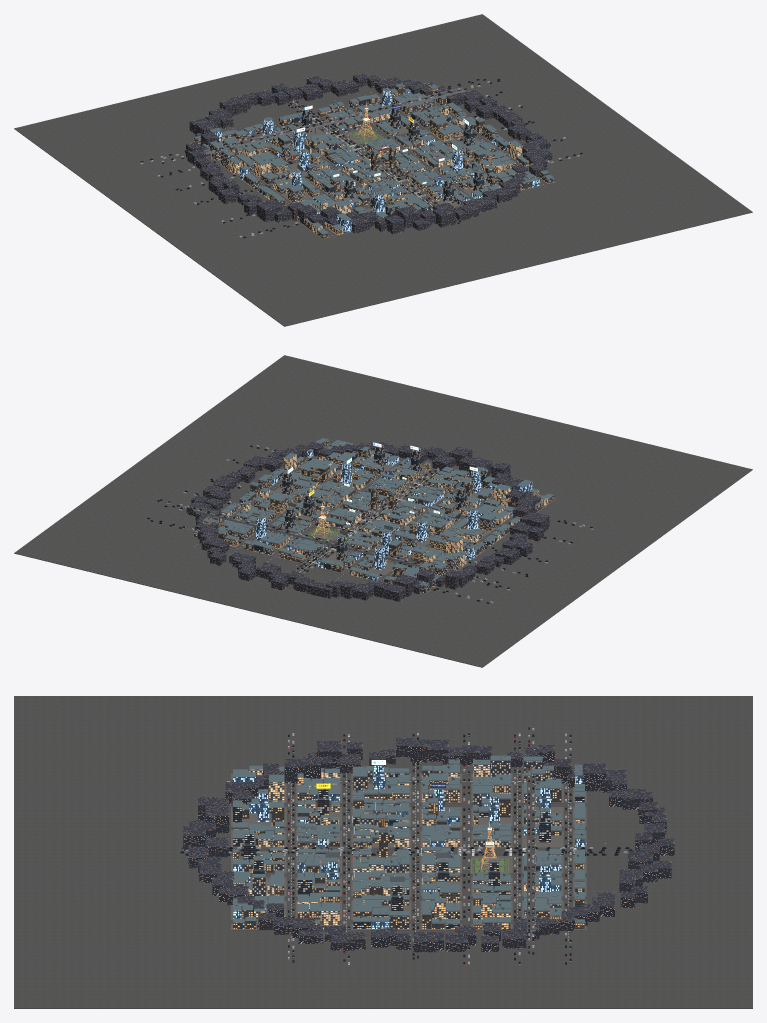
The model's file is akasaka.glb.
3 views of the same model, one above another, from view 1: azimuth 30°, elevation 25°; view 2: azimuth 150°, elevation 25°; view 3: azimuth 270°, elevation 25° (orthographic). The views are drawn at different scales.
Parts seen in each view (by area): view 1: street, skyline, roof, concrete, paving, facade0, facade2, facade3, facade4, facade1, facade5, metal (+1 smaller); view 2: street, skyline, roof, concrete, paving, facade4, facade0, facade3, facade2, facade1, facade5, metal; view 3: street, skyline, roof, paving, facade4, facade3, concrete, facade1, facade5, facade0, facade2, metal (+3 smaller).
Part boxes in pixels (x1,y1,x2,y2): street: [14, 14, 752, 326]; skyline: [186, 73, 552, 234]; roof: [194, 83, 553, 234]; concrete: [194, 85, 508, 203]; paving: [208, 99, 556, 239]; facade0: [221, 86, 549, 238]; facade2: [237, 86, 529, 234]; facade3: [209, 89, 539, 233]; facade4: [228, 105, 522, 233]; facade1: [194, 98, 554, 214]; facade5: [233, 99, 508, 216]; metal: [197, 84, 496, 202]; street: [14, 355, 752, 667]; skyline: [186, 441, 549, 601]; roof: [194, 438, 553, 585]; concrete: [193, 445, 510, 586]; paving: [192, 443, 555, 593]; facade4: [221, 452, 548, 576]; facade0: [213, 442, 554, 583]; facade3: [256, 442, 532, 580]; facade2: [194, 451, 539, 568]; facade1: [225, 439, 505, 592]; facade5: [215, 446, 497, 584]; metal: [197, 442, 501, 584]; street: [14, 696, 752, 1008]; skyline: [183, 738, 674, 952]; roof: [233, 755, 584, 923]; paving: [231, 773, 586, 930]; facade4: [248, 765, 584, 928]; facade3: [233, 764, 584, 928]; concrete: [243, 760, 584, 940]; facade1: [233, 761, 561, 928]; facade5: [233, 773, 584, 928]; facade0: [233, 771, 584, 928]; facade2: [233, 781, 584, 928]; metal: [248, 749, 605, 926].
Size of the model in its own units: 320 by 23.61 by 320.
Materials: 35 (22 with a texture image).
